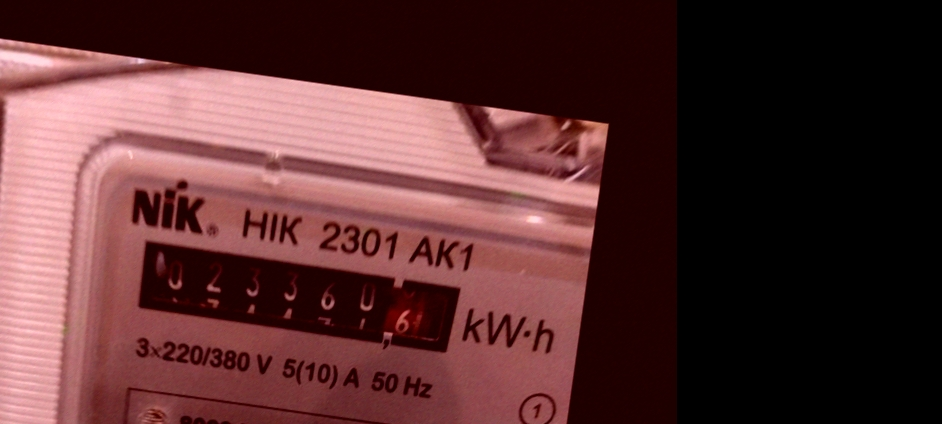0: (164, 255, 191, 292), (356, 277, 382, 315)
2: (204, 258, 230, 296)
3: (243, 264, 267, 301), (281, 268, 304, 304)
6: (318, 276, 342, 313), (393, 302, 415, 337)
screen: (122, 227, 483, 373)
